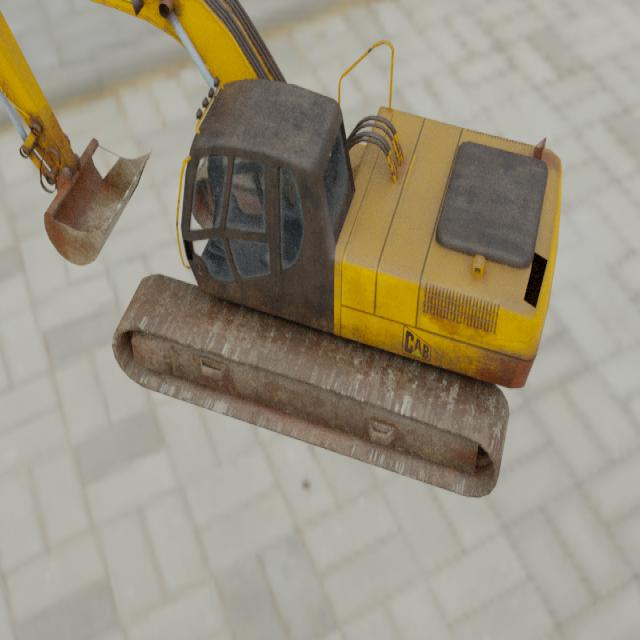excavator: (0, 0, 563, 499)
